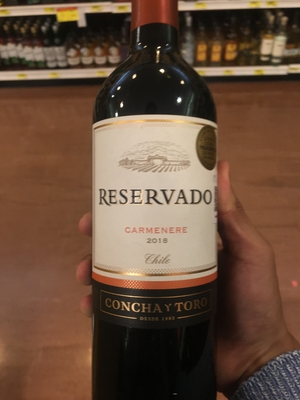reservado carmenere: (83, 5, 231, 395)
